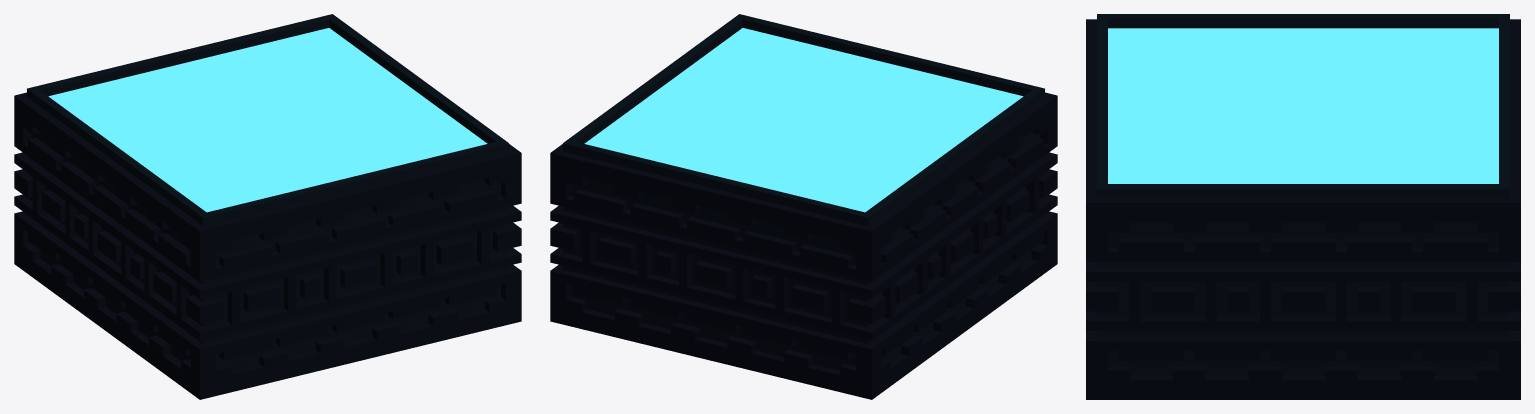
Rendered from Block_Base_Single.fbx.
3 renders of one model, left to right at view 1: azimuth 30°, elevation 25°; view 2: azimuth 150°, elevation 25°; view 3: azimuth 270°, elevation 25°, orthographic. The views are drawn at different scales.
Visible parts, largest first — view 1: Block_Base_Single; view 2: Block_Base_Single; view 3: Block_Base_Single.
Boxes of the visible parts, bbox=[...] form: Block_Base_Single: bbox=[14, 14, 521, 399]; Block_Base_Single: bbox=[550, 14, 1057, 399]; Block_Base_Single: bbox=[1086, 14, 1520, 399].
Bounding box in the file's own units: 100 × 100 × 52.5.
